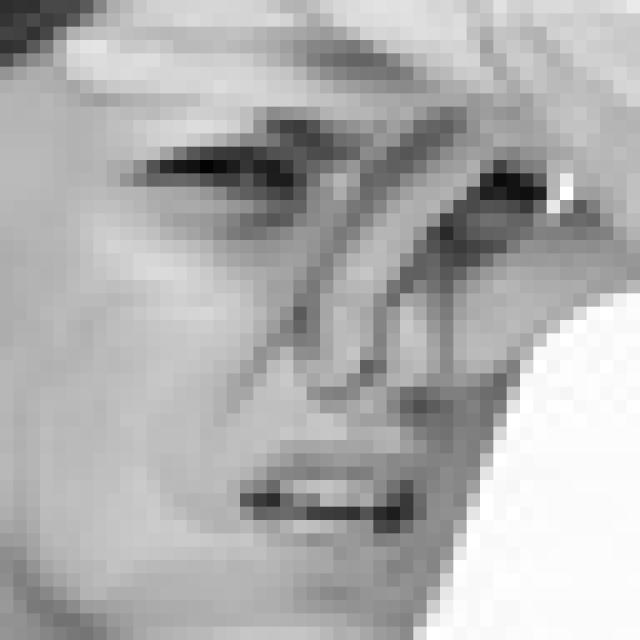disgust: (116, 81, 558, 585)
